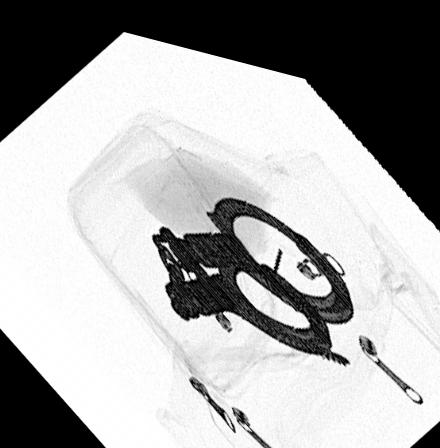HandCuffs: (146, 183, 358, 354)
